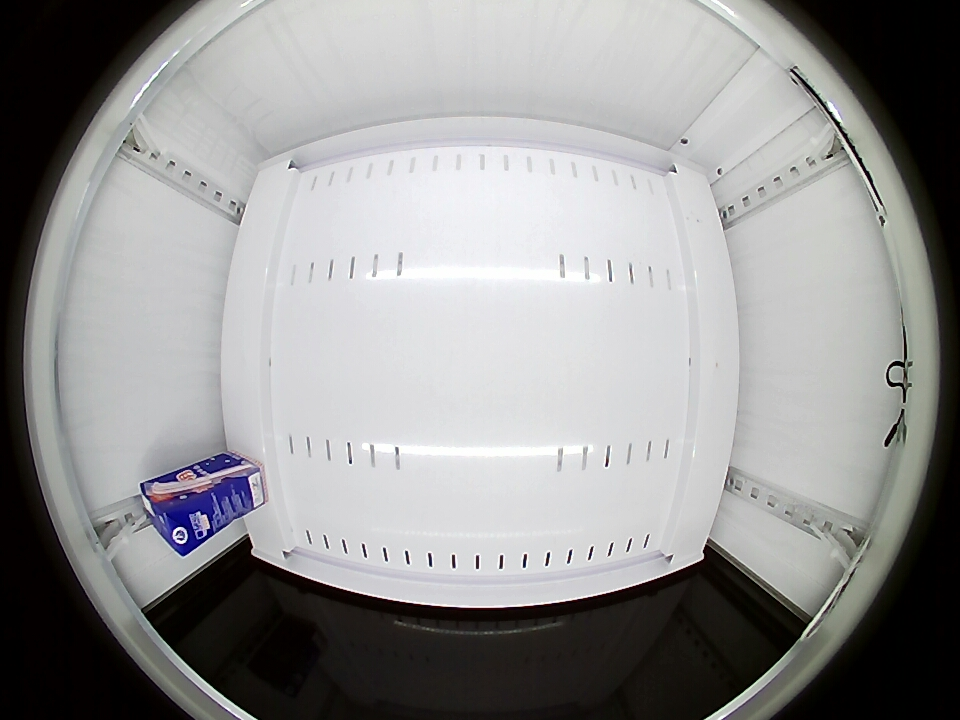bingqilinniunai: (139, 475, 213, 556)
